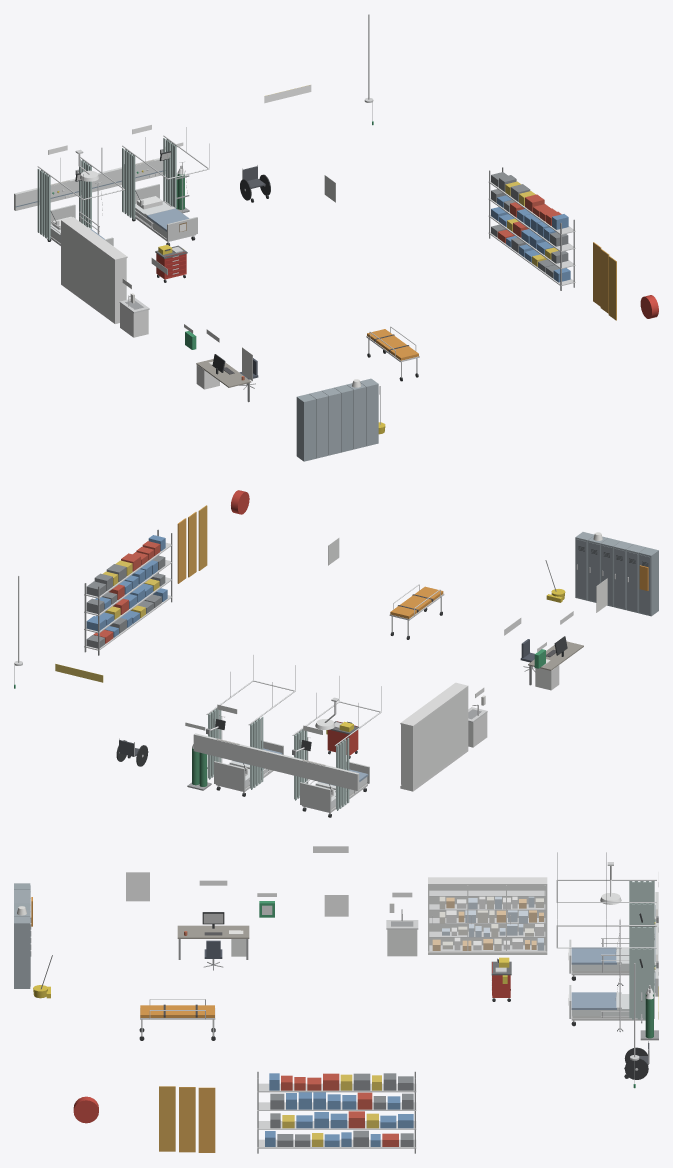
The model's file is medfurniture.glb.
3 views of the same model, one above another, from view 1: azimuth 30°, elevation 25°; view 2: azimuth 150°, elevation 25°; view 3: azimuth 270°, elevation 25° (orthographic). The views are drawn at different scales.
Visible parts, largest first — view 1: medfurniture; view 2: medfurniture; view 3: medfurniture.
Boxes of the visible parts, box(x1,y1,x2,y2) form: medfurniture: box(14, 14, 658, 461); medfurniture: box(14, 490, 658, 817); medfurniture: box(14, 846, 658, 1153).
Bounding box in the file's own units: 12.24 × 4.77 × 16.23.
